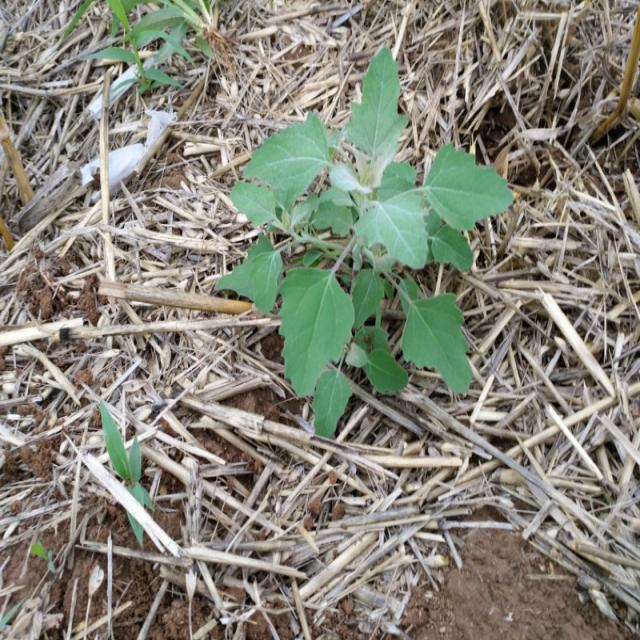goosefoots: (230, 56, 504, 451)
